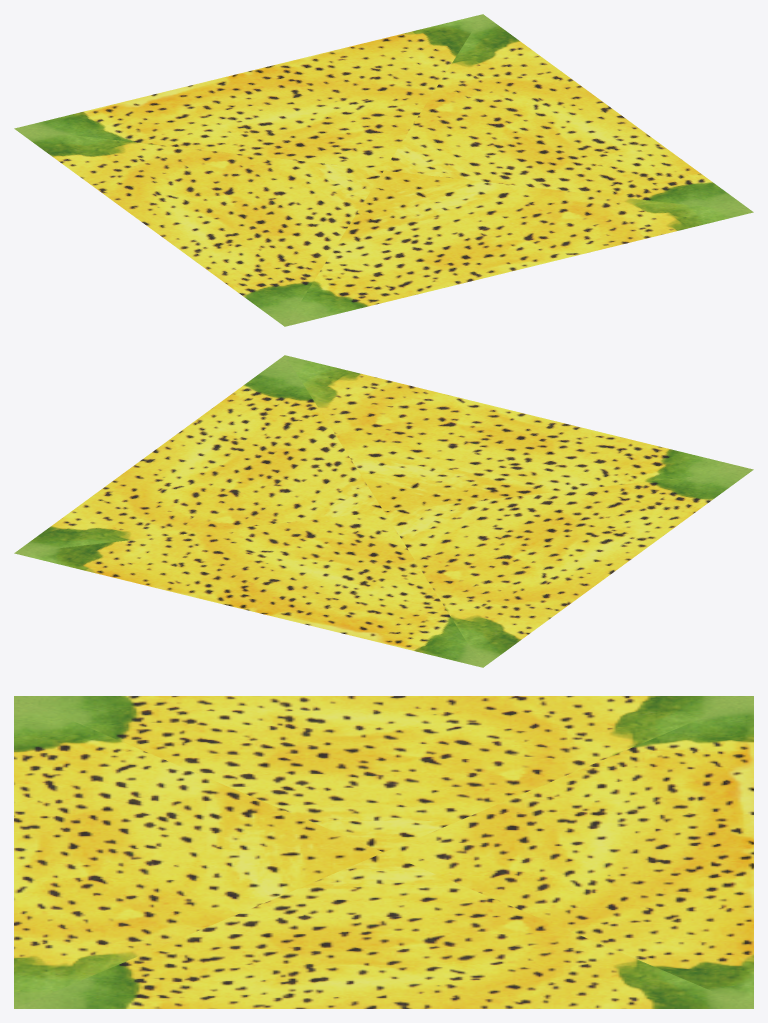
The model's file is tile_path_cross4.glb.
3 renders of one model, top to bottom at view 1: azimuth 30°, elevation 25°; view 2: azimuth 150°, elevation 25°; view 3: azimuth 270°, elevation 25°, orthographic. The views are drawn at different scales.
Parts seen in each view (by area): view 1: TilePathCross4; view 2: TilePathCross4; view 3: TilePathCross4.
Boxes of the visible parts, x1,y1,x2,y2 form: TilePathCross4: [14, 14, 753, 326]; TilePathCross4: [14, 355, 753, 667]; TilePathCross4: [14, 696, 753, 1008].
Bounding box in the file's own units: 2 × 0 × 2.
Materials: 1 (1 with a texture image).
